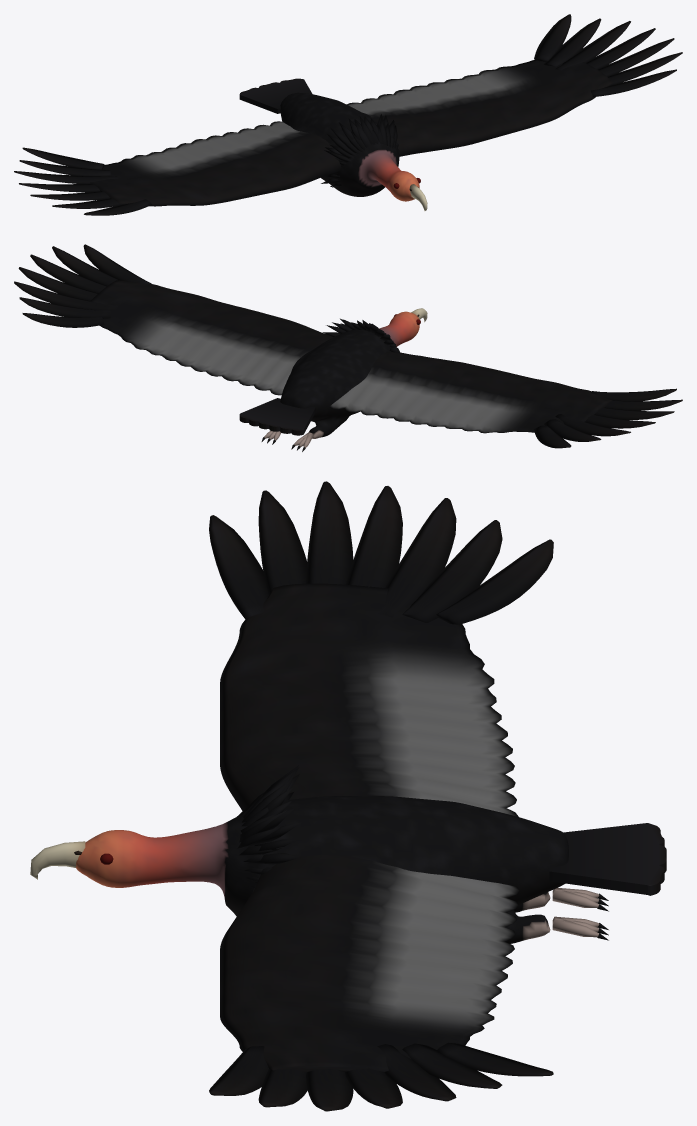
Rendered from CaliforniaCondor.fbx.
The picture shows the model from 3 angles, top to bottom: view 1: azimuth 30°, elevation 25°; view 2: azimuth 150°, elevation 25°; view 3: azimuth 270°, elevation 25°; orthographic projection. The views are drawn at different scales.
Visible parts, largest first — view 1: CaliforniaCondor; view 2: CaliforniaCondor; view 3: CaliforniaCondor.
Boxes of the visible parts, x1,y1,x2,y2 form: CaliforniaCondor: (14,14,682,215); CaliforniaCondor: (14,244,682,451); CaliforniaCondor: (30,481,666,1111).
Size of the model in its own units: 3.02 by 0.3569 by 1.29.
